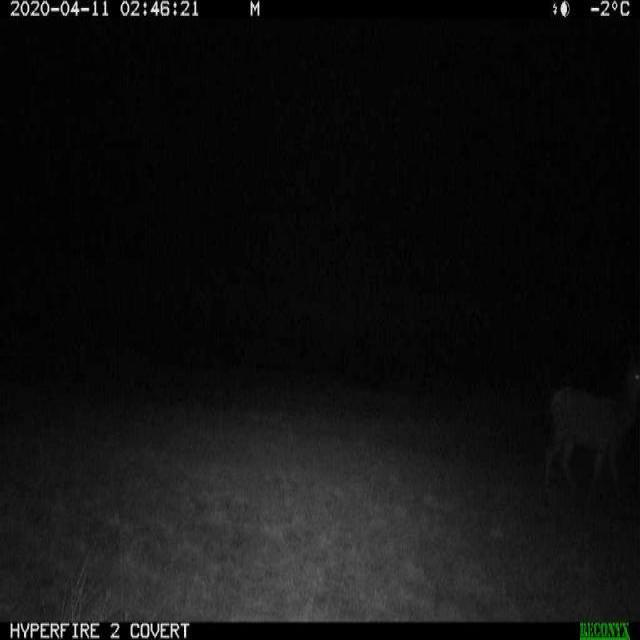deer: (538, 355, 640, 530)
